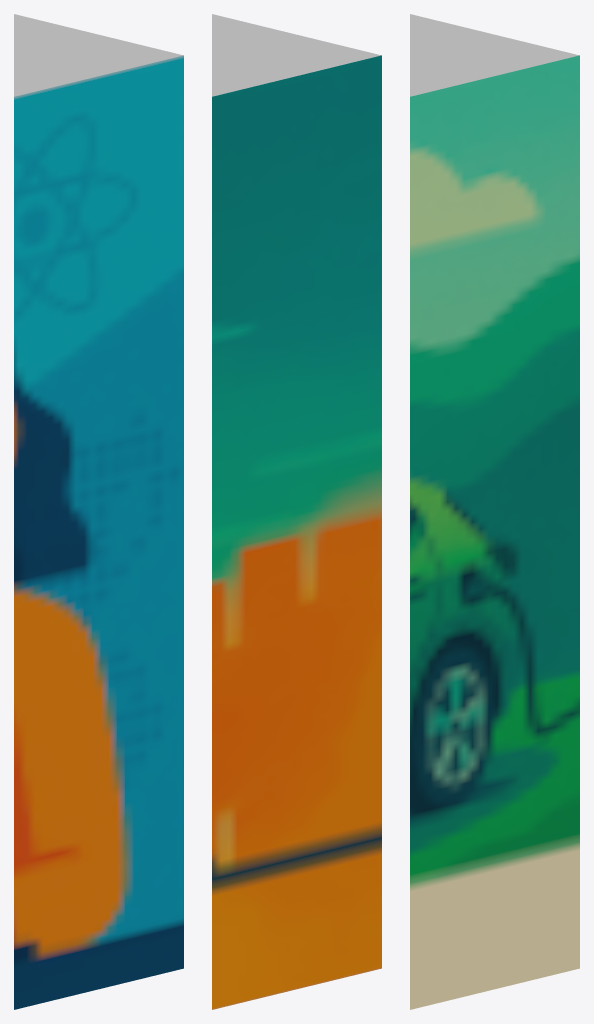
Rendered from Billboard_2x1_Piece_10.fbx.
The picture shows the model from 3 angles, left to right: view 1: azimuth 30°, elevation 25°; view 2: azimuth 150°, elevation 25°; view 3: azimuth 270°, elevation 25°; orthographic projection.
Visible parts, largest first — view 1: Billboard_2x1_Piece_10; view 2: Billboard_2x1_Piece_10; view 3: Billboard_2x1_Piece_10.
Part boxes in pixels (x1,y1,x2,y2): Billboard_2x1_Piece_10: [14, 14, 183, 1009]; Billboard_2x1_Piece_10: [212, 14, 381, 1009]; Billboard_2x1_Piece_10: [410, 14, 579, 1009].
Bounding box in the file's own units: 119 × 103 × 610.
